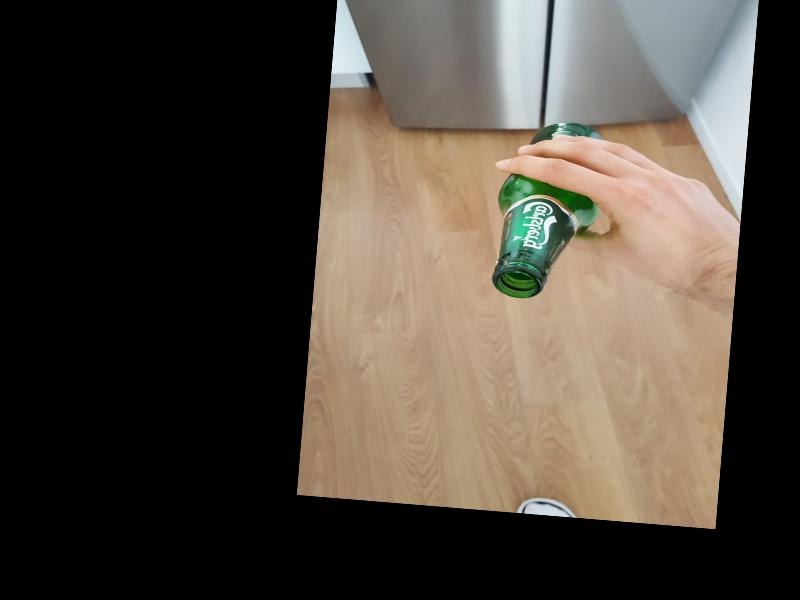Beer: (491, 118, 605, 304)
